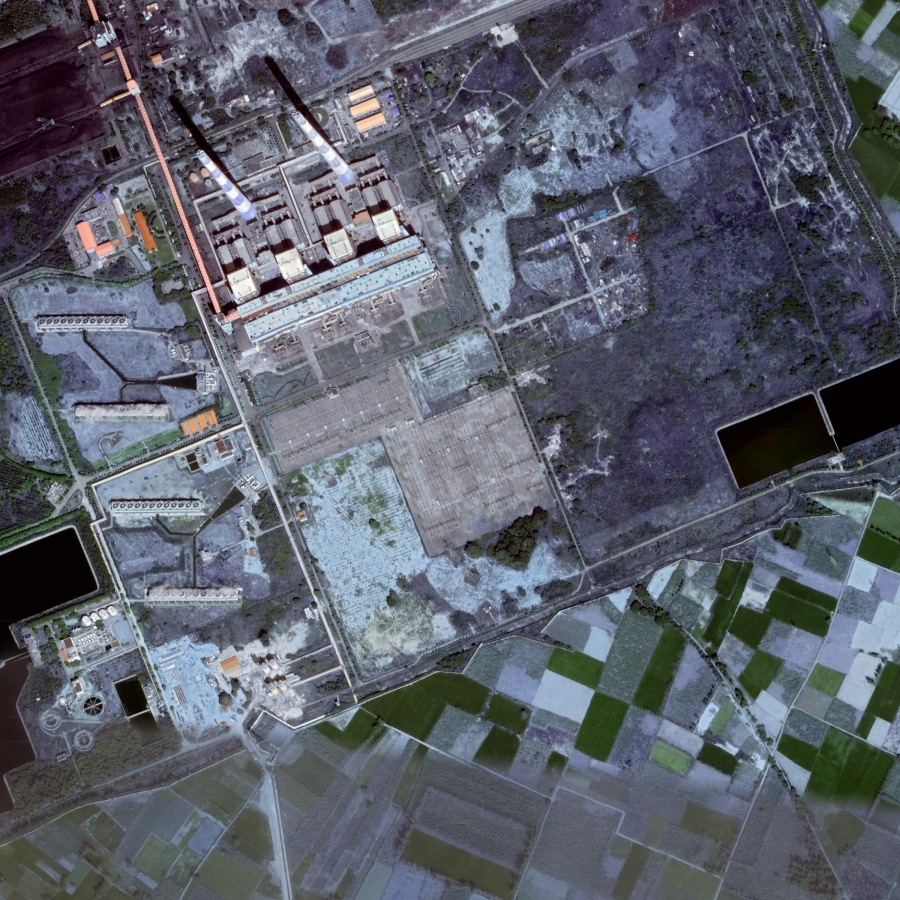PowerPlant: (158, 48, 395, 254)
